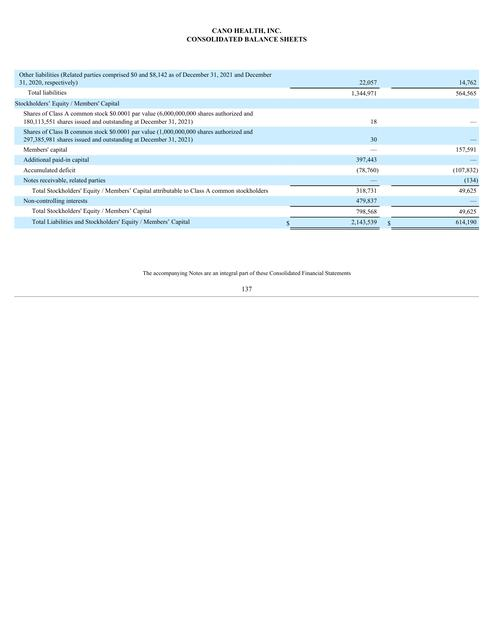box: (13, 67, 480, 232)
